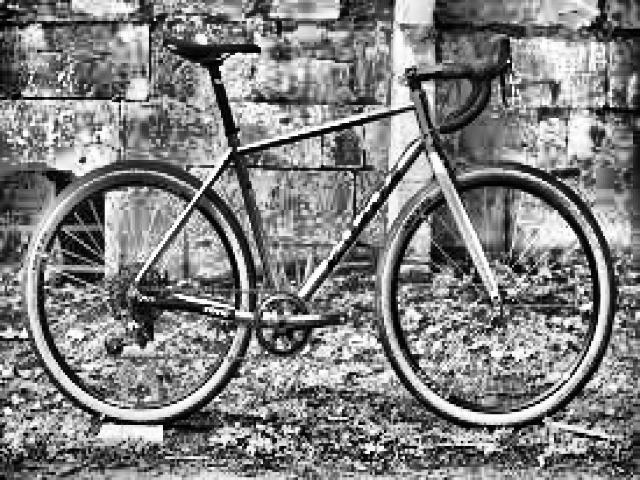cassette: (108, 259, 168, 324)
cranks_set: (252, 288, 347, 361)
pedal: (339, 302, 360, 328)
rear_derailleur: (99, 305, 159, 354)
saddle: (162, 33, 265, 68)
sti_shifter: (492, 35, 524, 110)
wheel: (374, 158, 620, 431), (19, 161, 257, 426)
